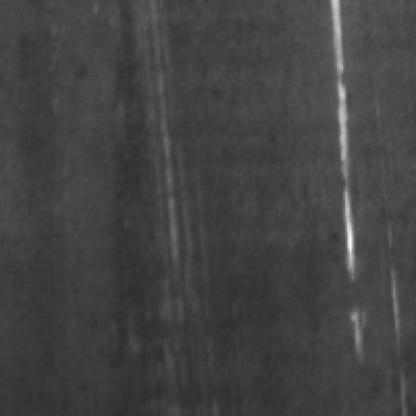scratches: (333, 0, 370, 352), (150, 60, 191, 266)
